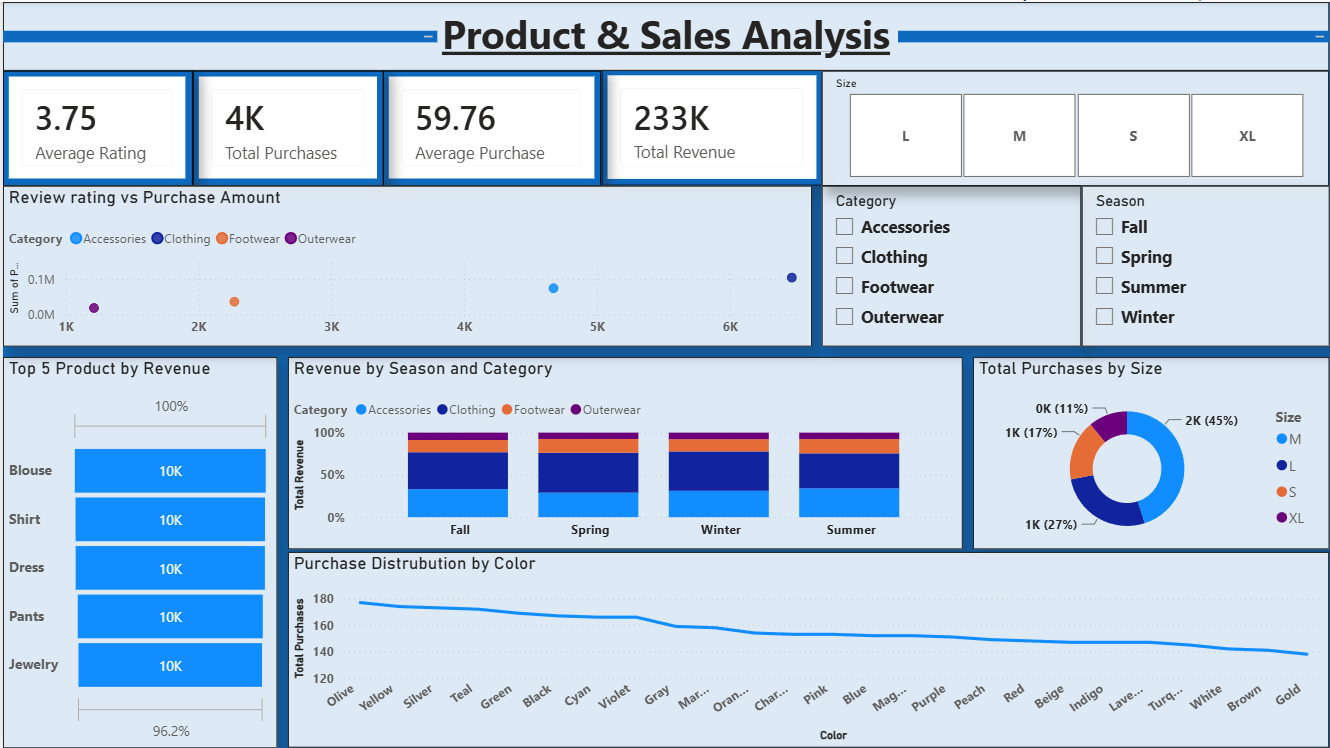

What the dashboard file says about the page in this screenshot:
{"tool":"powerbi","page":{"name":"Product & Sales Analysis","canvas":[1280,720],"ordinal":3},"visuals":[{"type":"cardVisual","fields":{"Data":["shopping_behavior_Cleaned.Total Revenue"]},"box":[577.4,64.8,213.1,112.3],"z":0},{"type":"cardVisual","fields":{"Data":["shopping_behavior_Cleaned.Average Purchase"]},"box":[367.2,66.2,210.2,110.9],"z":1000},{"type":"cardVisual","fields":{"Data":["shopping_behavior_Cleaned.Total Purchases"]},"box":[182.9,66.2,184.3,110.9],"z":2000},{"type":"cardVisual","fields":{"Data":["shopping_behavior_Cleaned.Average Rating"]},"box":[0,66.2,182.9,110.9],"z":3000},{"type":"funnel","title":"Top 5 Product by Revenue","fields":{"Category":["shopping_behavior_Cleaned.Item_Purchased"],"Y":["shopping_behavior_Cleaned.Total Revenue"]},"box":[0,342.7,265,377.3],"z":5000},{"type":"hundredPercentStackedColumnChart","title":"Revenue by Season and Category","fields":{"Category":["shopping_behavior_Cleaned.Season"],"Series":["shopping_behavior_Cleaned.Category"],"Y":["shopping_behavior_Cleaned.Total Revenue"]},"box":[275,342.7,650.9,185.8],"z":6000},{"type":"donutChart","fields":{"Category":["shopping_behavior_Cleaned.Size"],"Y":["shopping_behavior_Cleaned.Total Purchases"]},"box":[936,342.7,344.2,185.8],"z":7000},{"type":"lineChart","title":"Purchase Distrubution by Color","fields":{"Category":["shopping_behavior_Cleaned.Color"],"Y":["shopping_behavior_Cleaned.Total Purchases"]},"box":[275,531.4,1005.1,188.6],"z":8000},{"type":"scatterChart","title":"Review rating vs Purchase Amount","fields":{"Series":["shopping_behavior_Cleaned.Category"],"X":["Sum(shopping_behavior_Cleaned.Review_Rating)"],"Y":["Sum(shopping_behavior_Cleaned.Purchase_Amount_USD)"]},"box":[0,177.1,780.5,155.5],"z":9000},{"type":"slicer","fields":{"Values":["shopping_behavior_Cleaned.Category"]},"box":[790.6,177.1,250.6,155.5],"z":10000},{"type":"slicer","fields":{"Values":["shopping_behavior_Cleaned.Size"]},"box":[790.6,66.2,489.6,110.9],"z":11000},{"type":"slicer","fields":{"Values":["shopping_behavior_Cleaned.Season"]},"box":[1041.1,177.1,239,155.5],"z":12000},{"type":"textbox","box":[0,0,1280.2,66.2],"z":12001},{"type":"textbox","box":[0,27.4,419,11.5],"z":12002},{"type":"textbox","box":[864,27.4,416.2,11.5],"z":12003}]}

Visuals, with their boxes in screenshot pixels (x1, y1, x2, y2), scaled from the page's 1280x720 canvas onto the 1330x748 screenshot:
cardVisual - shopping_behavior_Cleaned.Total Revenue: 600 67 821 184
cardVisual - shopping_behavior_Cleaned.Average Purchase: 382 69 600 184
cardVisual - shopping_behavior_Cleaned.Total Purchases: 190 69 382 184
cardVisual - shopping_behavior_Cleaned.Average Rating: 0 69 190 184
"Top 5 Product by Revenue" funnel: 0 356 275 747
"Revenue by Season and Category" hundredPercentStackedColumnChart: 286 356 962 549
donutChart - shopping_behavior_Cleaned.Size x shopping_behavior_Cleaned.Total Purchases: 973 356 1329 549
"Purchase Distrubution by Color" lineChart: 286 552 1329 747
"Review rating vs Purchase Amount" scatterChart: 0 184 811 346
slicer - shopping_behavior_Cleaned.Category: 821 184 1082 346
slicer - shopping_behavior_Cleaned.Size: 821 69 1329 184
slicer - shopping_behavior_Cleaned.Season: 1082 184 1329 346
textbox: 0 0 1329 69
textbox: 0 28 435 40
textbox: 898 28 1329 40
